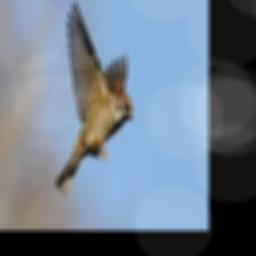Sparrow: (56, 1, 133, 197)
